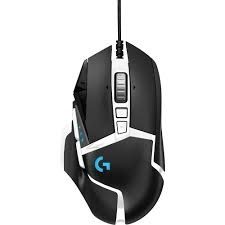mouse: (61, 37, 172, 225)
